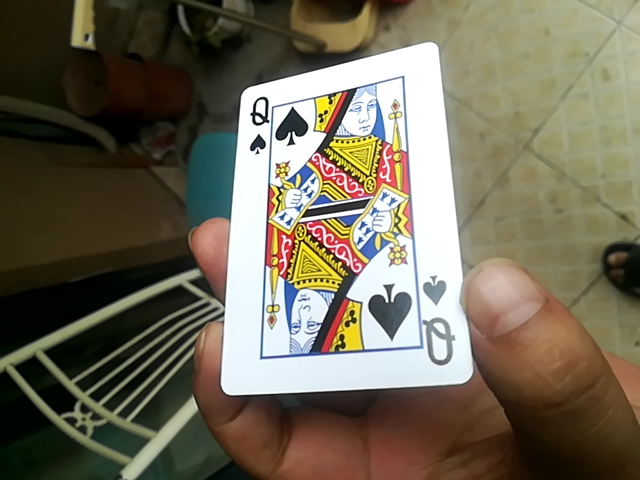ht q: (224, 42, 466, 402)
